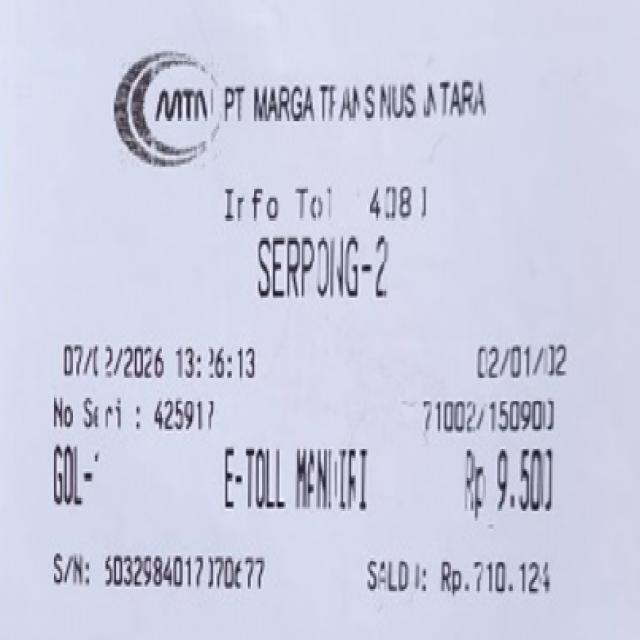date: (58, 339, 262, 389)
store: (221, 77, 505, 130)
total: (457, 441, 562, 518)
